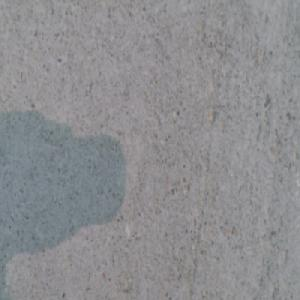Washer: (124, 286, 147, 300)
